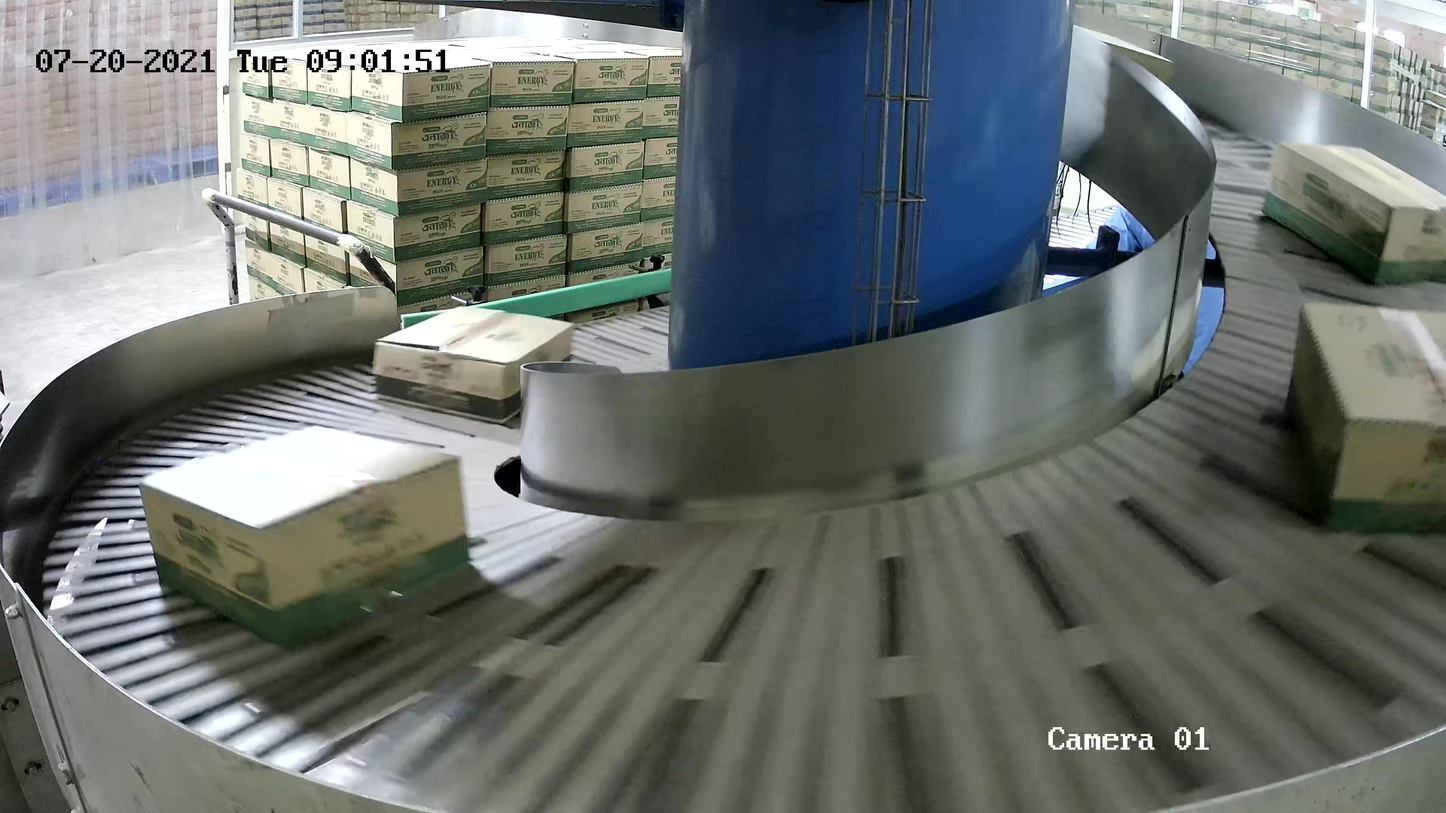Box: (139, 424, 472, 645), (1278, 298, 1446, 546), (1261, 138, 1446, 290), (373, 305, 576, 427)
